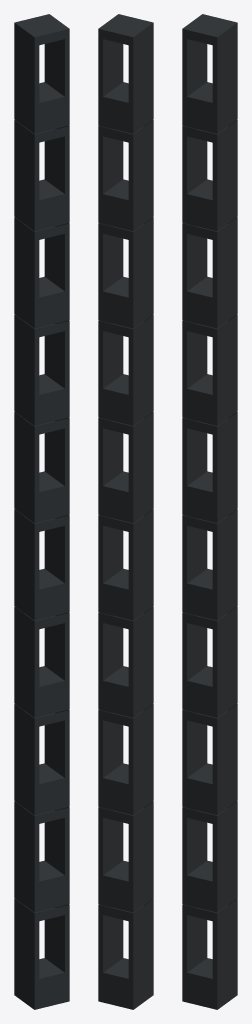
File: SM_metal_connector.fbx
3 views of the same model, side by side, from view 1: azimuth 30°, elevation 25°; view 2: azimuth 150°, elevation 25°; view 3: azimuth 330°, elevation 25° (orthographic).
Visible parts, largest first — view 1: metal_connector; view 2: metal_connector; view 3: metal_connector.
Boxes of the visible parts, <box> form: metal_connector: <box>14,14,69,1009</box>; metal_connector: <box>98,14,153,1009</box>; metal_connector: <box>182,14,237,1009</box>.
Bounding box in the file's own units: 13.11 × 347 × 13.06.
